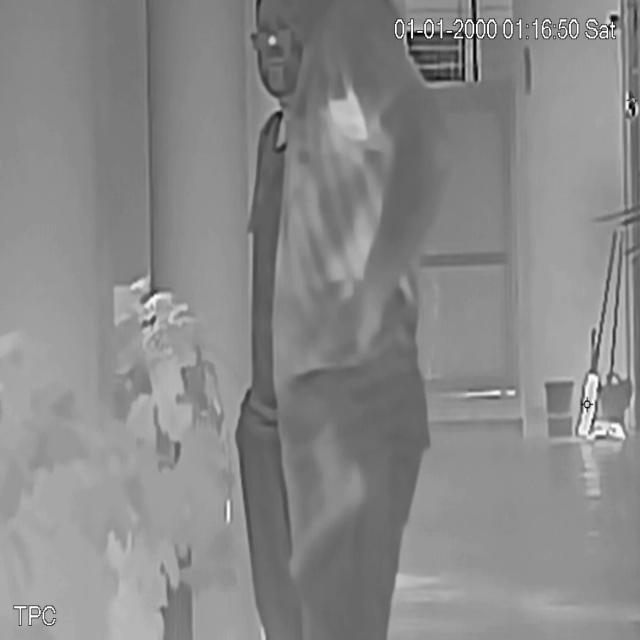Weapon: (287, 420, 378, 583)
